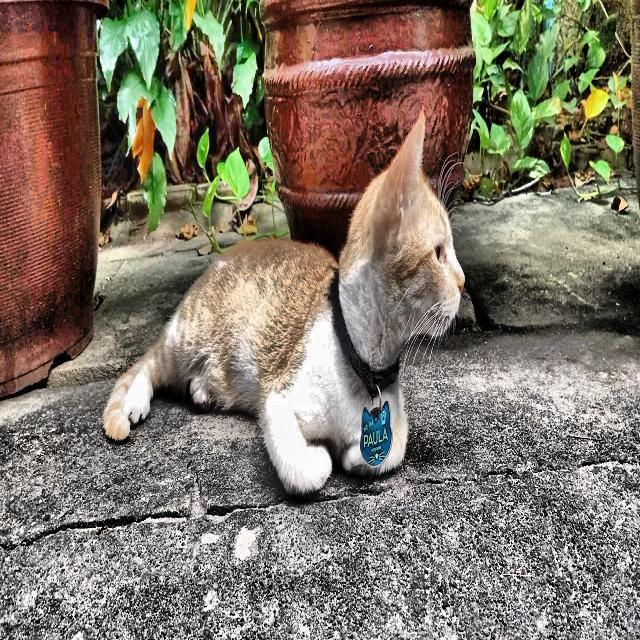Healthy skin: (281, 304, 330, 458)
